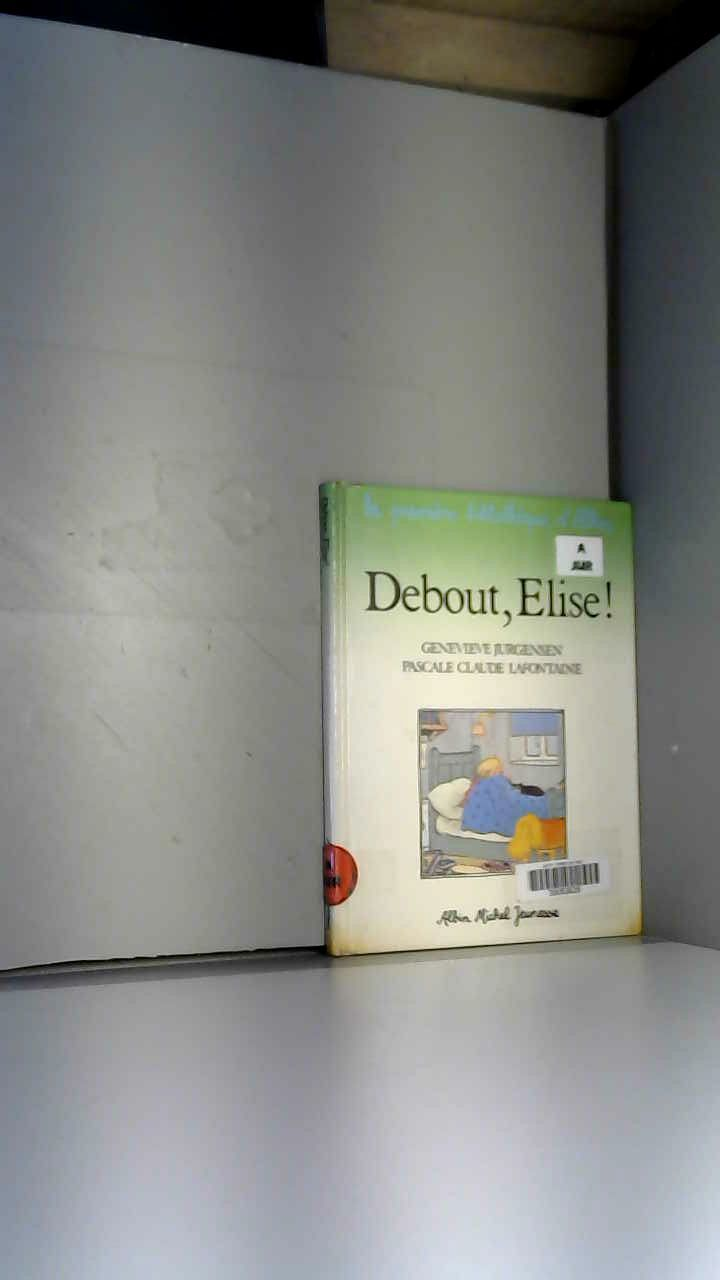book: (292, 447, 683, 996)
